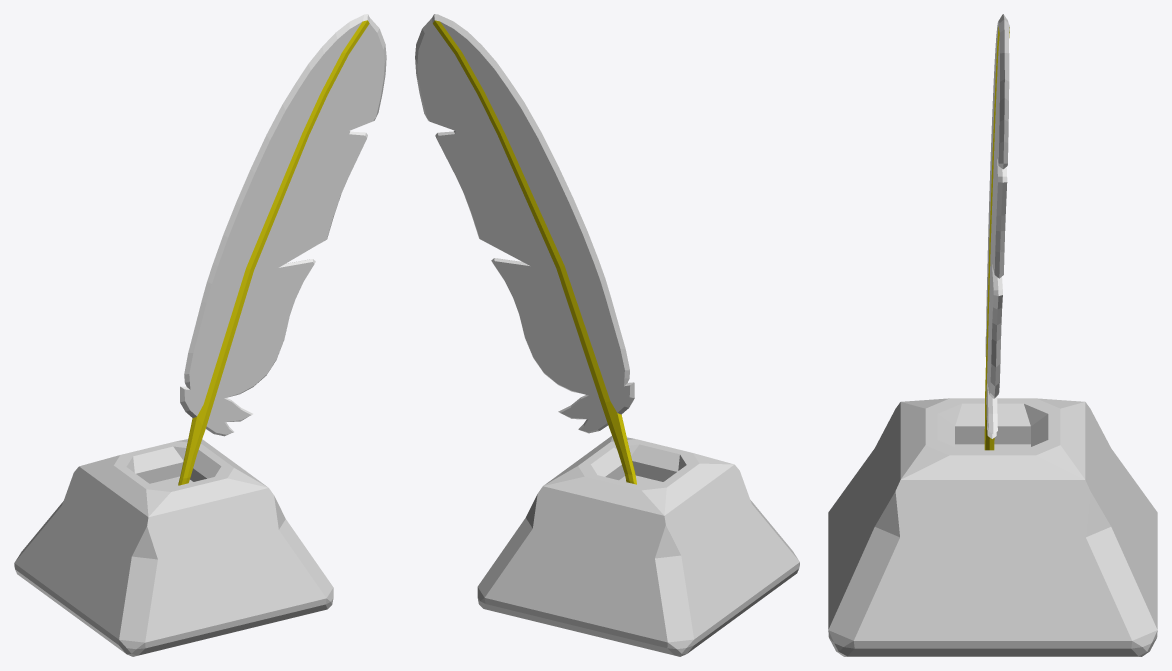
Rendered from kałamarz_i_pioro.fbx.
3 views of the same model, side by side, from view 1: azimuth 30°, elevation 25°; view 2: azimuth 150°, elevation 25°; view 3: azimuth 270°, elevation 25° (orthographic). The views are drawn at different scales.
Visible parts, largest first — view 1: Cube.001; view 2: Cube.001; view 3: Cube.001.
Part boxes in pixels (left/top/right/bottom): Cube.001: left=14, top=14, right=386, bottom=656; Cube.001: left=415, top=14, right=799, bottom=656; Cube.001: left=828, top=14, right=1157, bottom=656.
Bounding box in the file's own units: 281 × 436 × 186.
